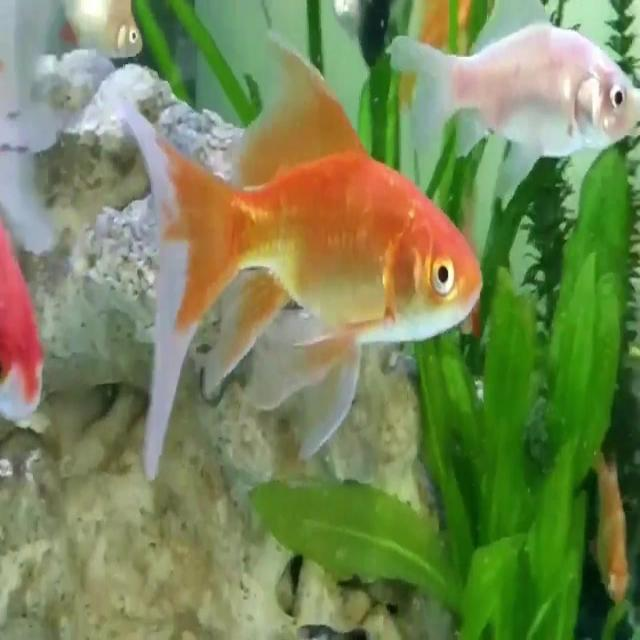GoldFish: (115, 35, 485, 467), (395, 0, 640, 177)
